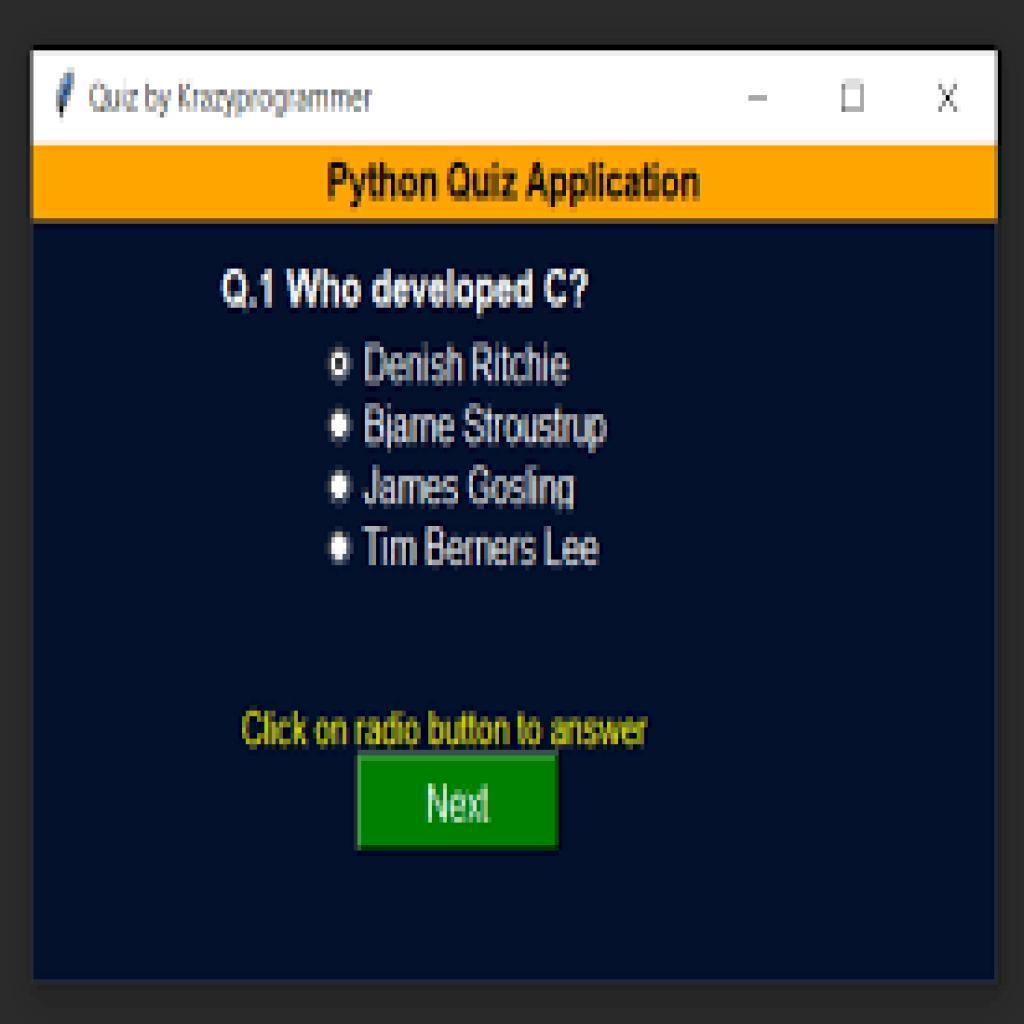button: (357, 755, 556, 843)
label: (244, 701, 657, 755), (223, 261, 597, 317), (366, 401, 608, 455), (363, 522, 604, 571), (362, 339, 576, 388), (368, 465, 579, 514)
radio: (326, 346, 356, 386), (326, 530, 355, 569), (326, 469, 354, 505), (327, 406, 353, 443)
